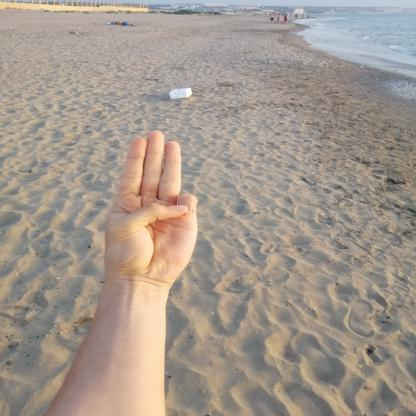THA: (92, 125, 209, 291)
